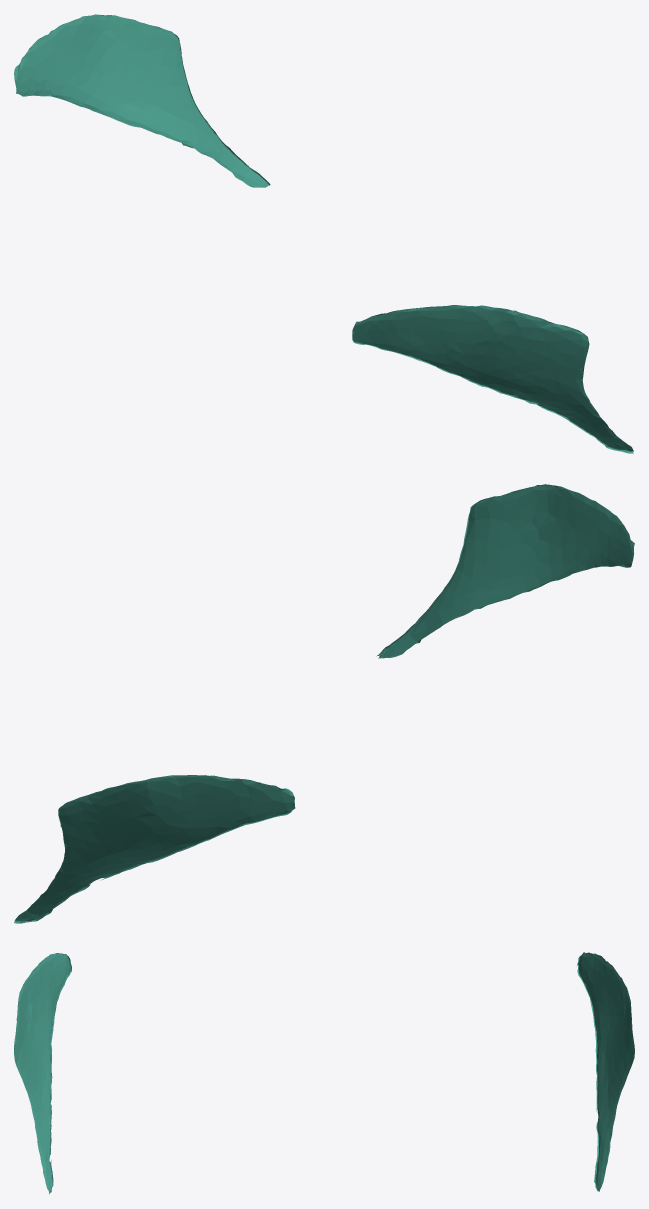
3 renders of one model, top to bottom at view 1: azimuth 30°, elevation 25°; view 2: azimuth 150°, elevation 25°; view 3: azimuth 270°, elevation 25°, orthographic. The views are drawn at different scales.
Parts seen in each view (by area): view 1: 893.obj; view 2: 893.obj; view 3: 893.obj.
Boxes of the visible parts, x1=… form: 893.obj: x1=14, y1=14, x2=633, y2=453; 893.obj: x1=14, y1=484, x2=634, y2=923; 893.obj: x1=14, y1=952, x2=634, y2=1194.
Bounding box in the file's own units: 2992 × 2183 × 7915.
